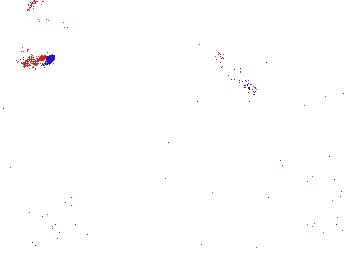X-ray fish: (10, 1, 78, 28)
glassfish: (162, 132, 264, 188)
red belly glassfish: (1, 52, 56, 72)
redtail glassfish: (213, 48, 258, 93)
